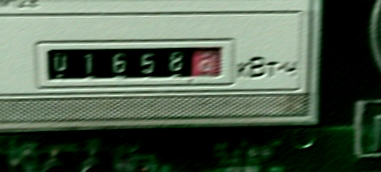0: (51, 50, 69, 72)
1: (81, 51, 96, 75)
5: (139, 51, 156, 75)
6: (110, 50, 129, 75)
8: (167, 50, 185, 72)
9: (196, 57, 213, 78)
screen: (32, 31, 239, 96)
